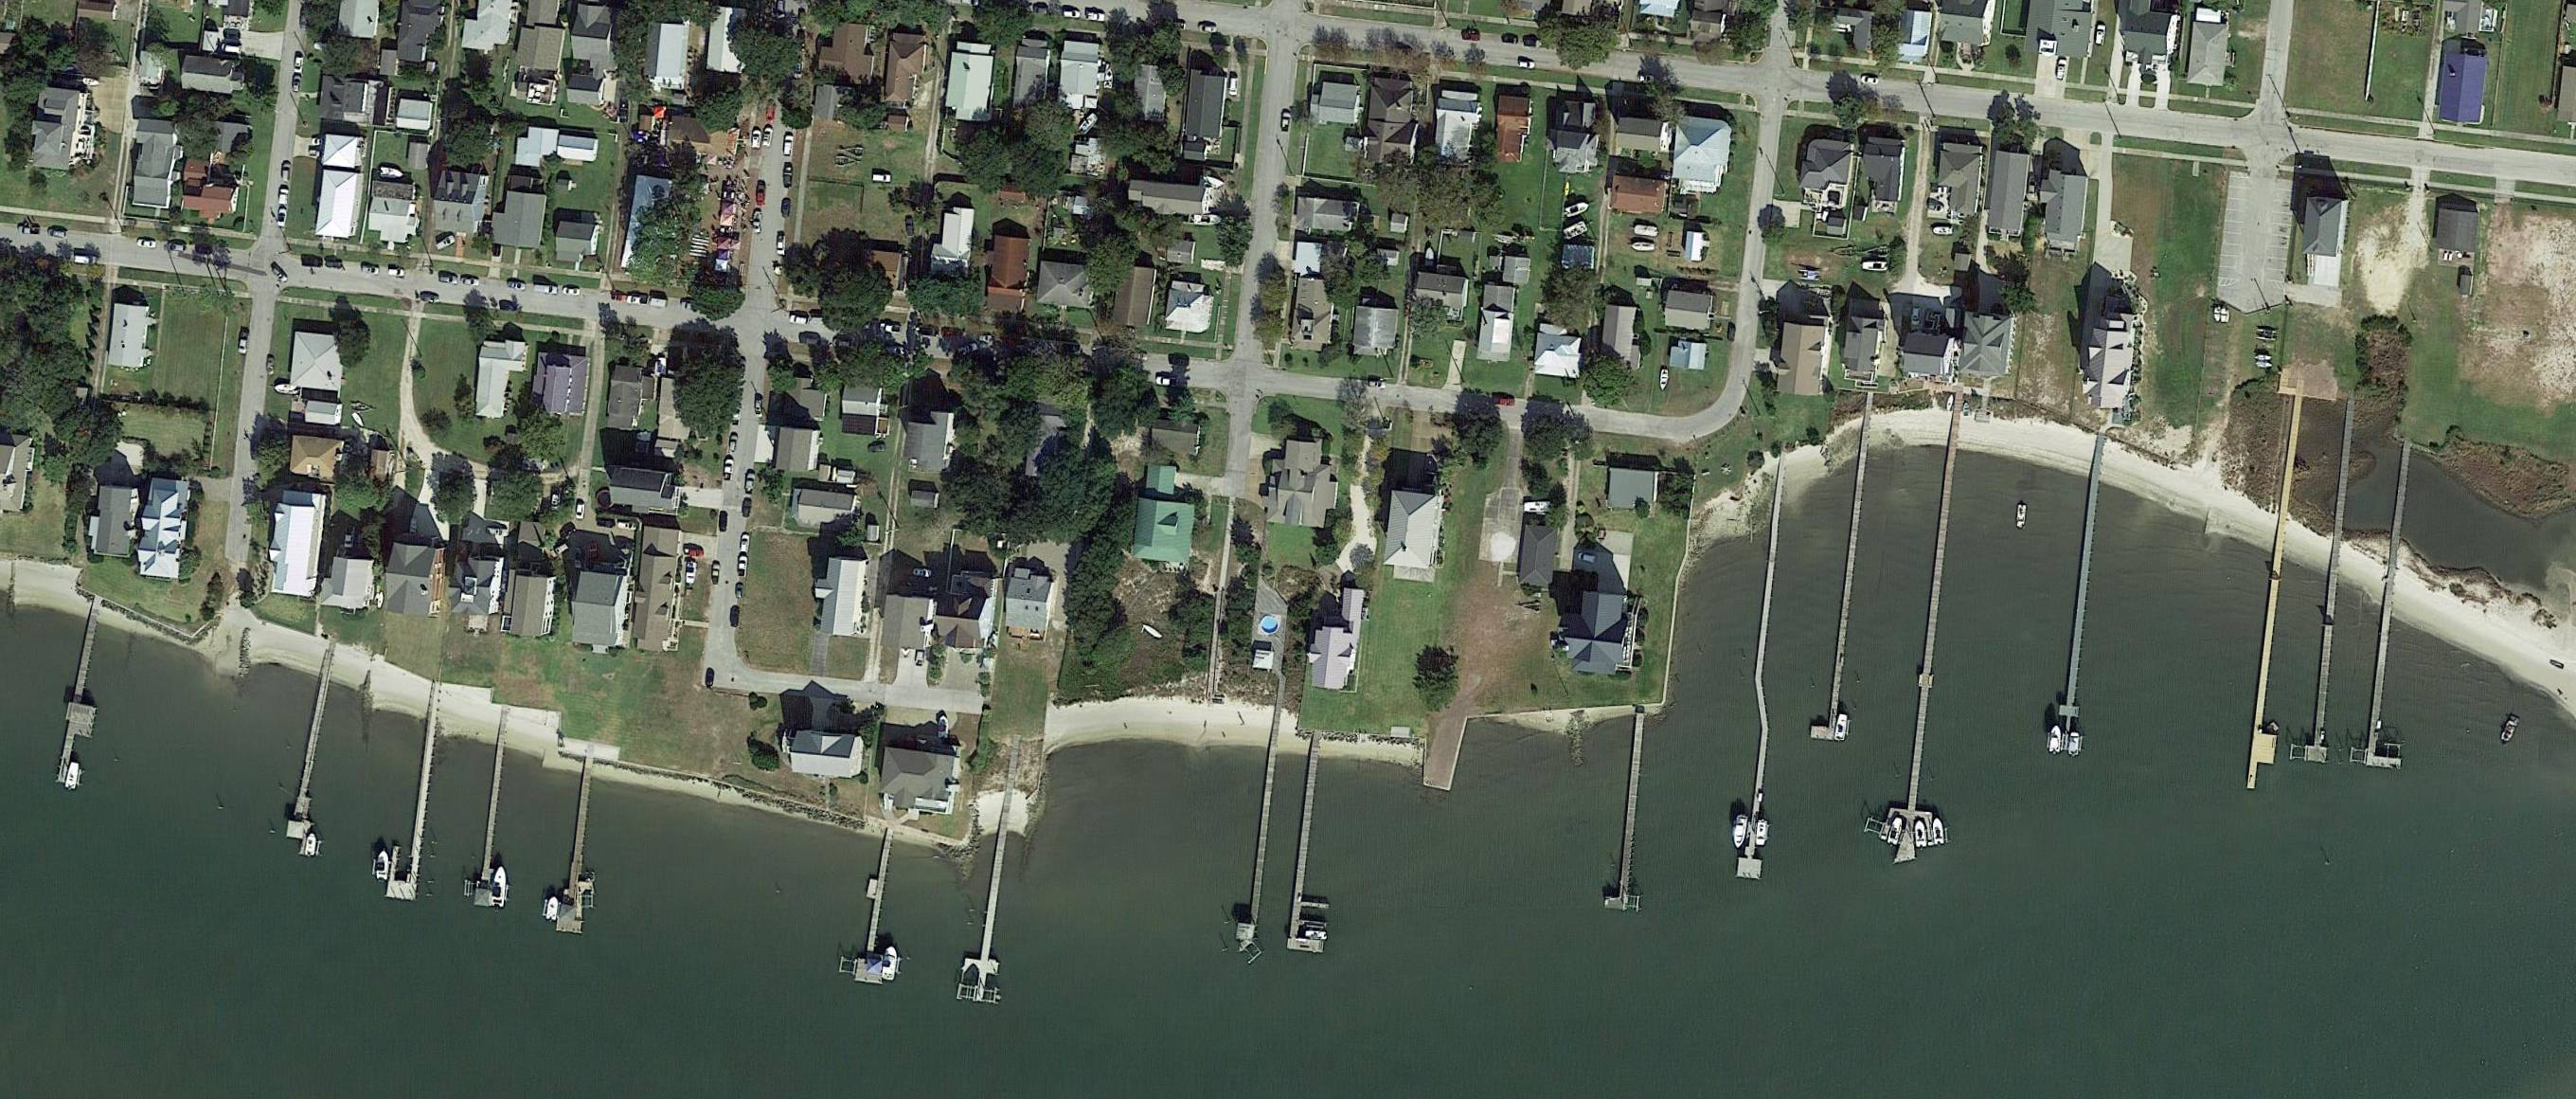harbor: (1874, 413, 1991, 870), (1721, 481, 1809, 881), (2245, 404, 2316, 796), (2363, 444, 2432, 769), (2303, 407, 2363, 765), (1809, 421, 1872, 740), (2054, 443, 2109, 752), (957, 796, 1028, 1007), (385, 679, 445, 902), (1288, 744, 1346, 955), (52, 606, 118, 789), (282, 655, 341, 855), (1232, 737, 1279, 954), (474, 709, 517, 908), (1604, 717, 1644, 911), (854, 838, 905, 986), (557, 764, 601, 934)
ship: (1729, 812, 1751, 852), (492, 865, 510, 909), (880, 946, 901, 982), (1886, 816, 1905, 847), (374, 848, 391, 882), (2046, 724, 2064, 756), (544, 894, 562, 923), (1930, 817, 1945, 847), (1913, 819, 1927, 849)
